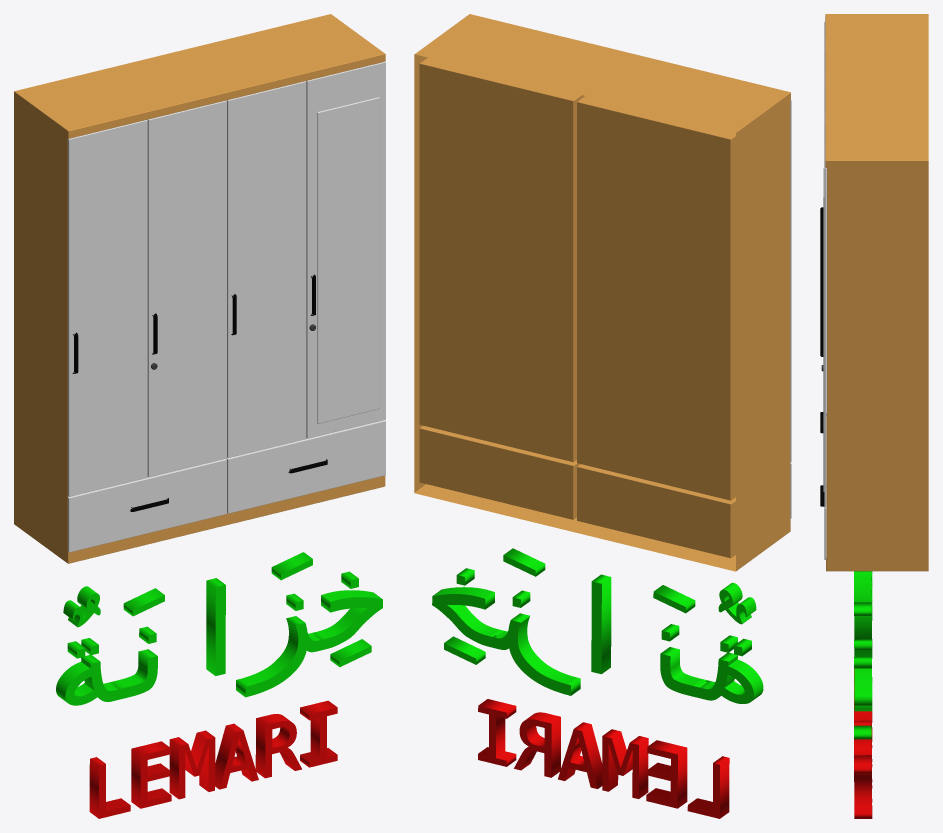
The model's file is Wardrobe  4 door.fbx.
3 renders of one model, left to right at view 1: azimuth 30°, elevation 25°; view 2: azimuth 150°, elevation 25°; view 3: azimuth 270°, elevation 25°, orthographic. The views are drawn at different scales.
Visible parts, largest first — view 1: white finishing, back wardrobe, mirror, Teks.005, Teks, door opener, Teks.004; view 2: back wardrobe, Teks, Teks.005, Teks.004, white finishing; view 3: back wardrobe, Teks, Teks.005, white finishing, door opener, mirror, Teks.001, Teks.002.
Boxes of the visible parts, x1,y1,x2,y2 form: white finishing: (68, 61, 385, 552); back wardrobe: (14, 14, 385, 563); mirror: (317, 97, 380, 423); Teks.005: (89, 700, 337, 818); Teks: (56, 571, 382, 705); door opener: (72, 274, 327, 511); Teks.004: (63, 586, 100, 627); back wardrobe: (414, 14, 790, 571); Teks: (432, 568, 763, 703); Teks.005: (478, 699, 729, 818); Teks.004: (718, 582, 756, 624); white finishing: (790, 100, 791, 519); back wardrobe: (825, 14, 928, 571); Teks: (854, 571, 872, 711); Teks.005: (854, 669, 872, 818); white finishing: (824, 22, 826, 559); door opener: (820, 207, 824, 506); mirror: (823, 168, 824, 491); Teks.001: (854, 725, 871, 739); Teks.002: (854, 602, 871, 615).
Bounding box in the file's own units: 406 × 836 × 122.
